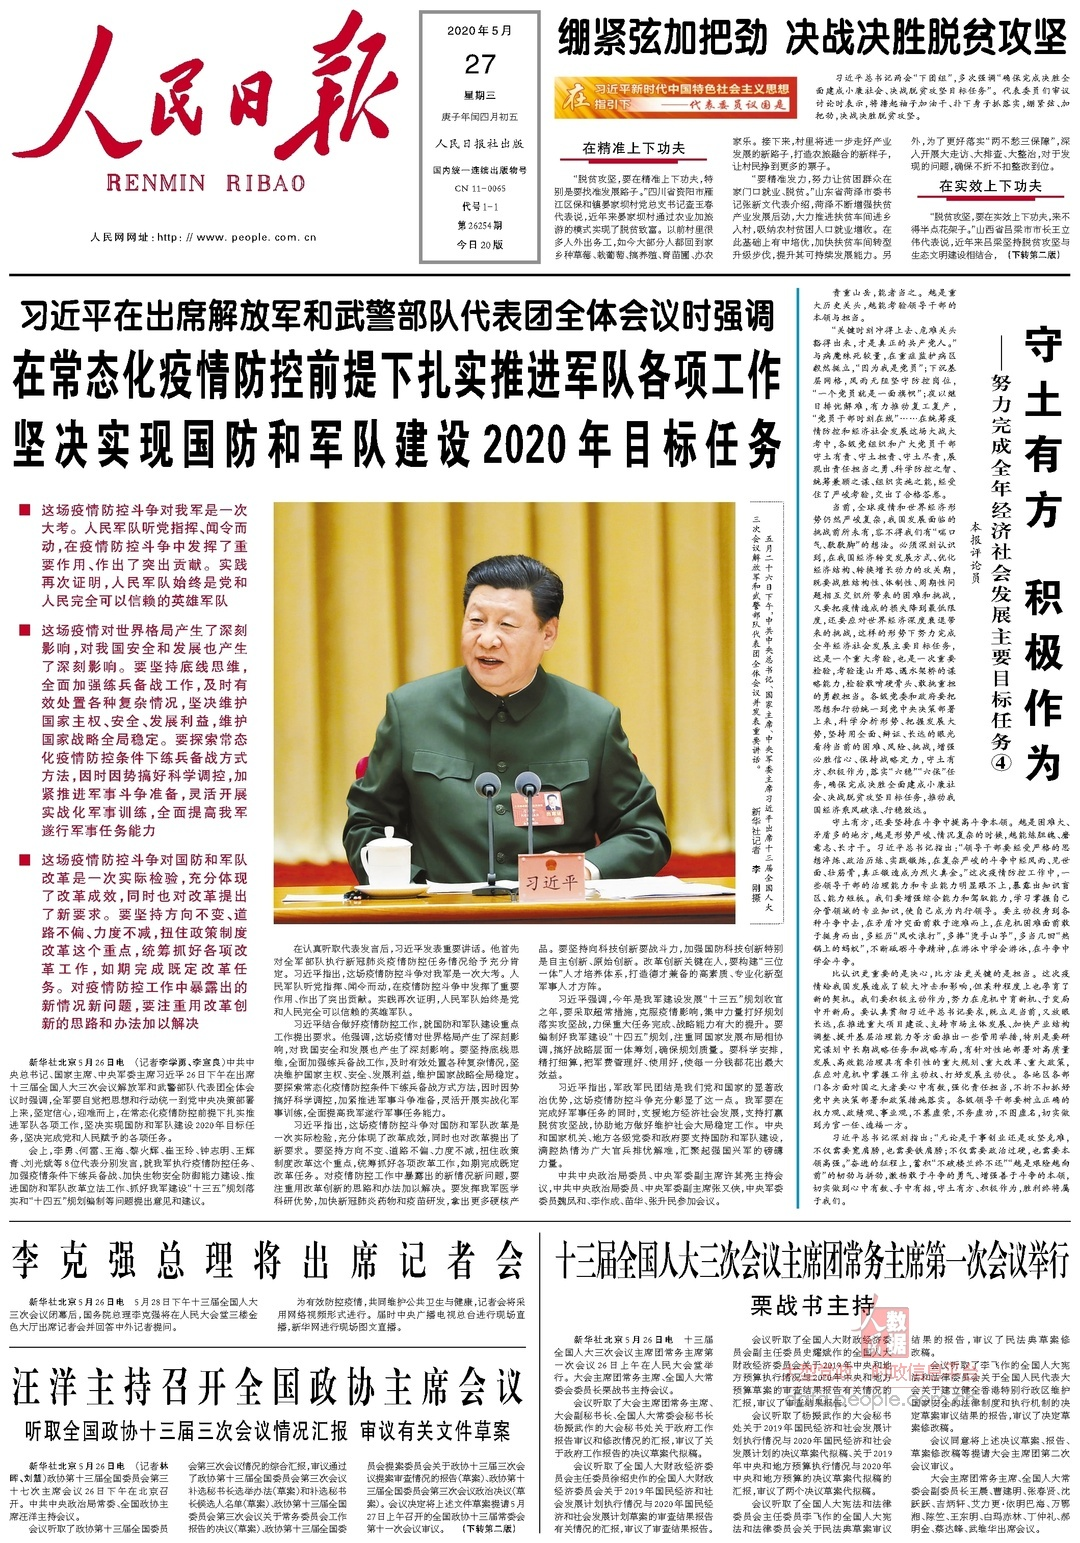pic: (269, 497, 740, 925)
